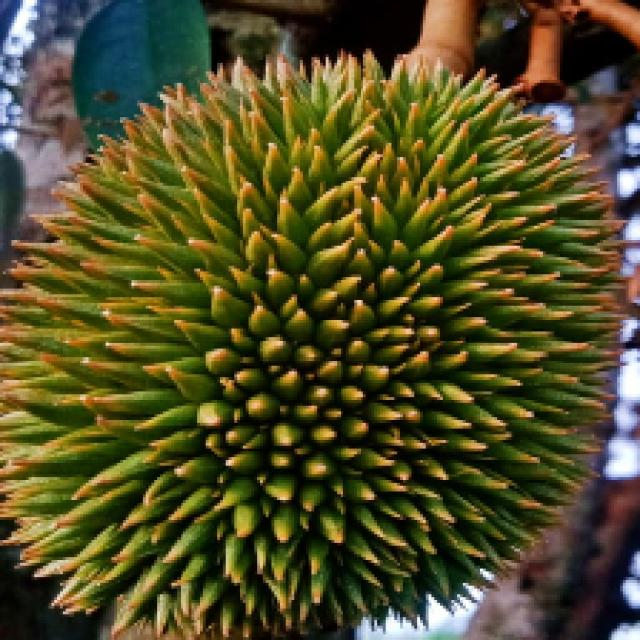d101: (16, 64, 617, 607)
